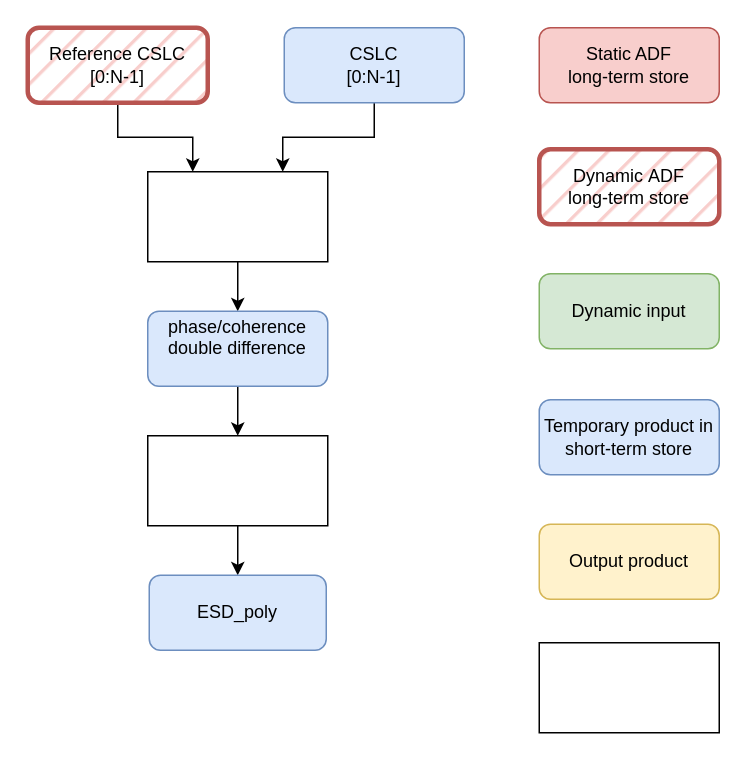
The diagram is 747 pixels wide and 759 high, and some of its shapes have lost their labels. The box of each missing label's shape, as (x1, y1, x2, y2) in pixels:
int/cohe: (146, 170, 328, 262)
Processing block: (538, 641, 719, 733)
Robust 2D fit: (146, 434, 328, 526)
